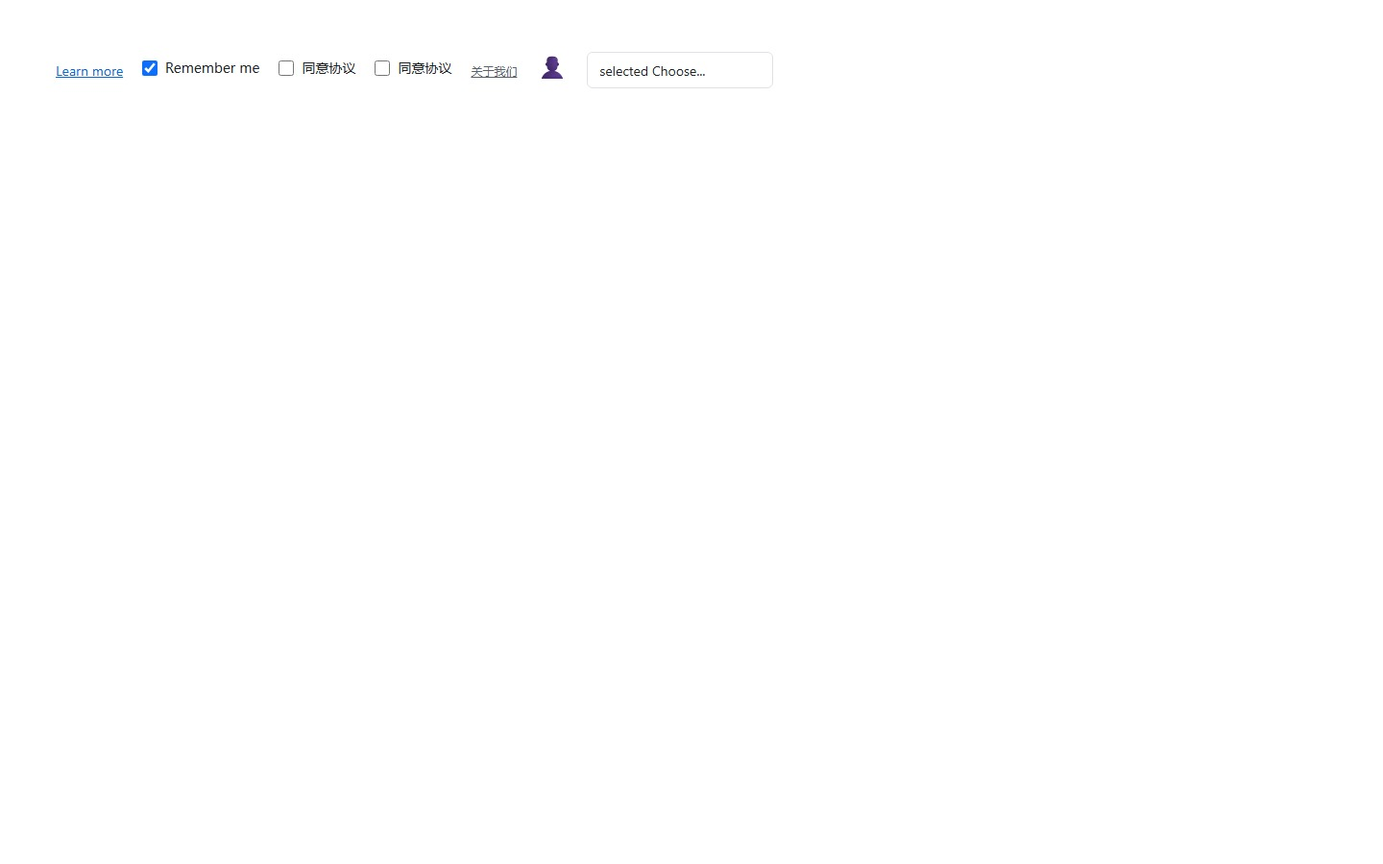checkbox: (142, 60, 158, 75), (279, 60, 294, 75), (375, 60, 390, 75)
icon: (165, 59, 260, 77), (302, 59, 356, 77), (398, 59, 452, 77), (536, 54, 568, 77)
link: (56, 61, 123, 79), (471, 63, 517, 78)
radio: (142, 59, 260, 77), (279, 59, 356, 77), (375, 59, 452, 77)
select: (587, 52, 773, 88)
